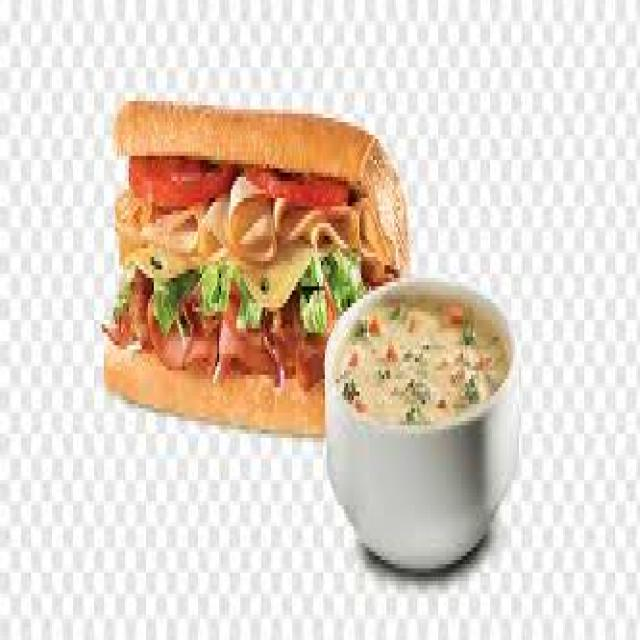Sandwich: (88, 63, 406, 421)
